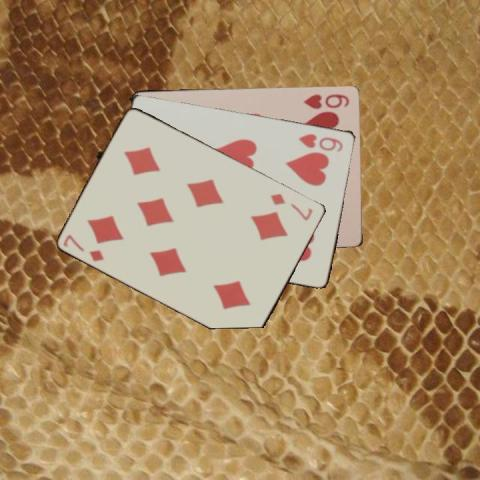6h: (296, 131, 345, 153), (300, 91, 350, 110)
7d: (267, 190, 315, 222), (60, 232, 106, 264)
